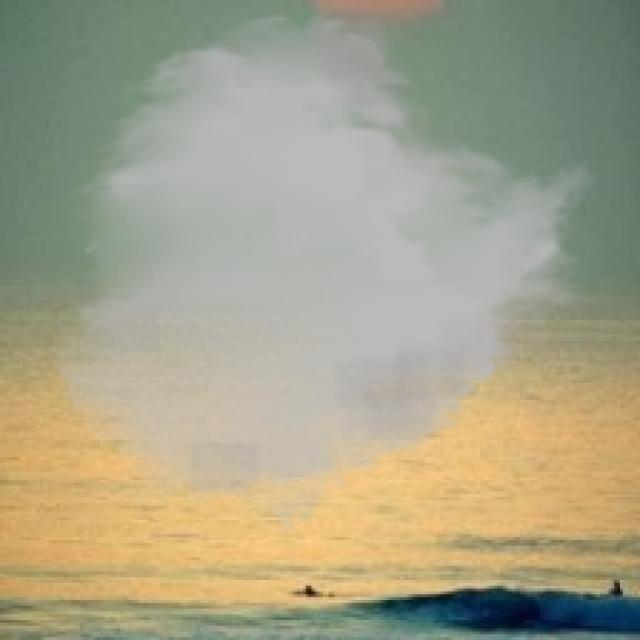Smoke: (49, 8, 600, 534)
